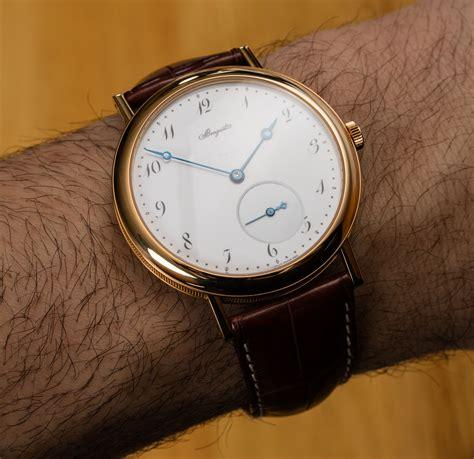Watch: (87, 43, 384, 403)
